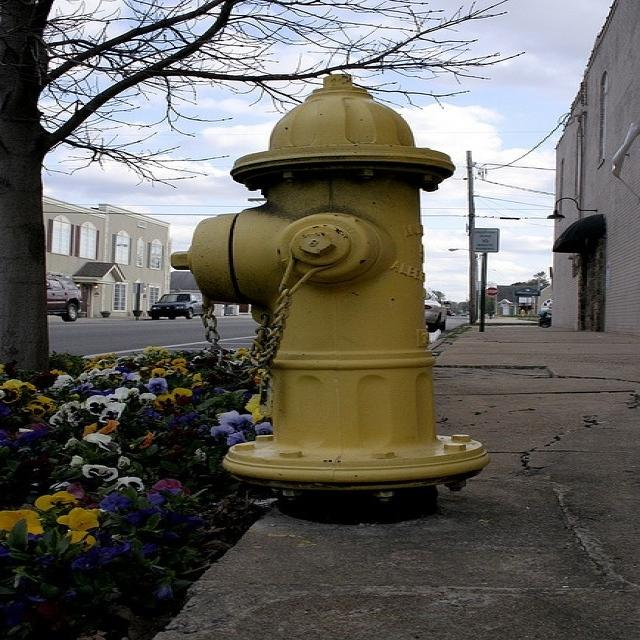fire_hydrant: (128, 63, 550, 567)
